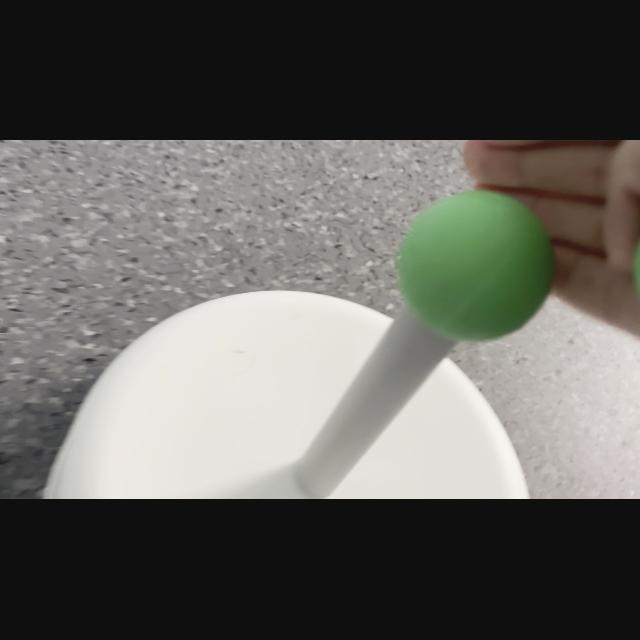objects: (396, 183, 560, 347)
